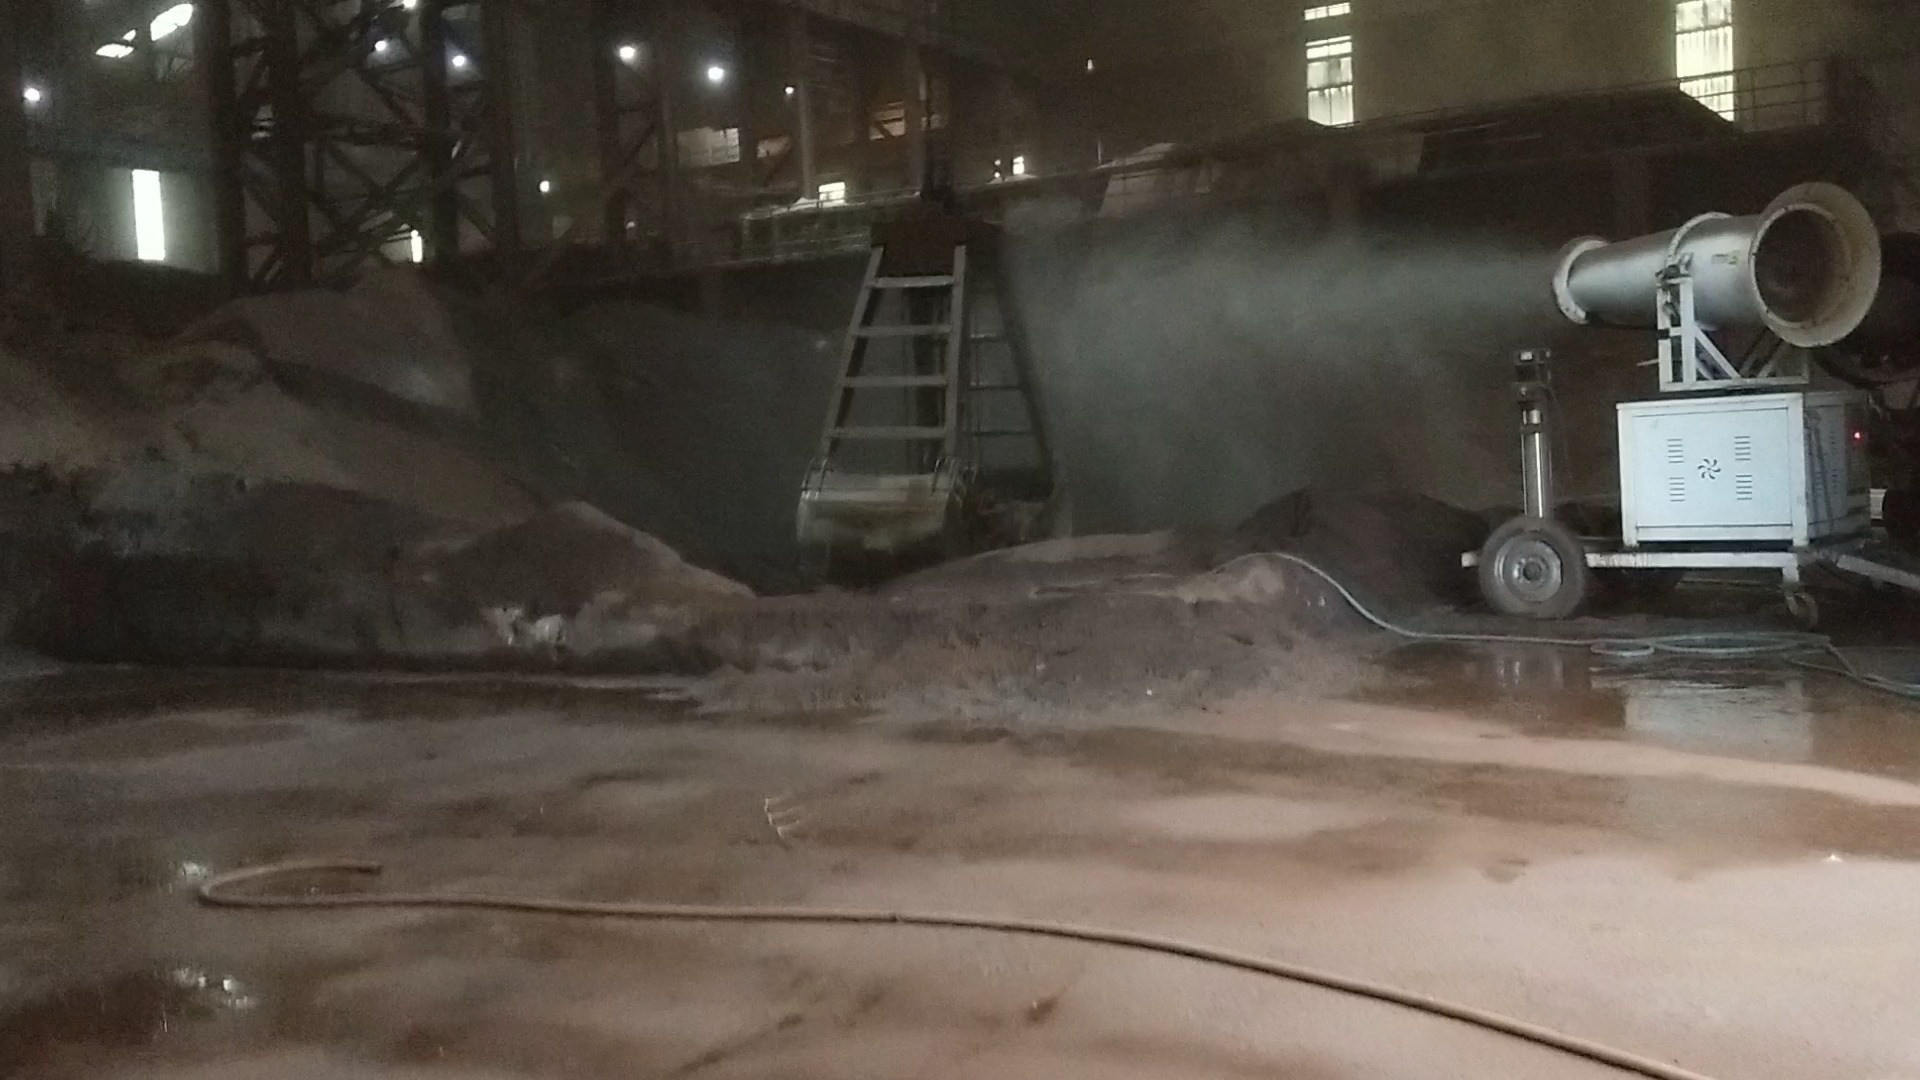dust: (1088, 240, 1520, 375)
grab: (787, 135, 1069, 592)
